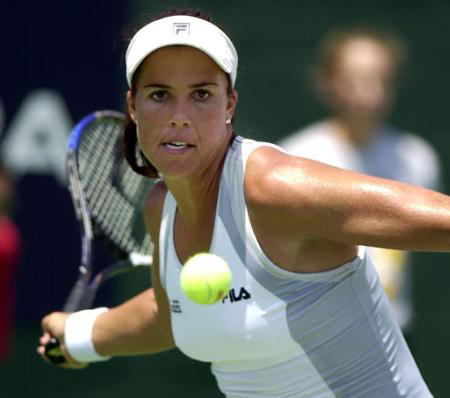Face: (132, 54, 231, 180)
